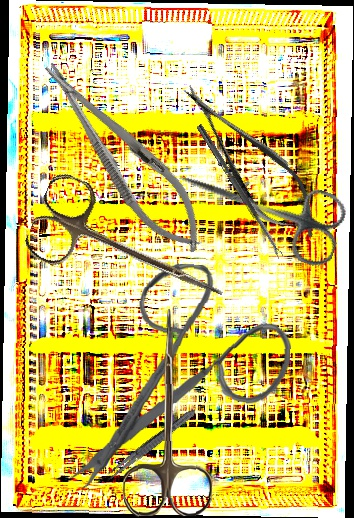Dressing Forceps: (102, 406, 199, 484)
Iris Scissors: (69, 256, 296, 507), (20, 169, 242, 331), (166, 145, 352, 271), (120, 308, 213, 517)
Micro Scissor: (165, 66, 336, 256)
Needle Holder: (27, 46, 221, 266)
Surgical Spoon: (195, 123, 284, 260)
